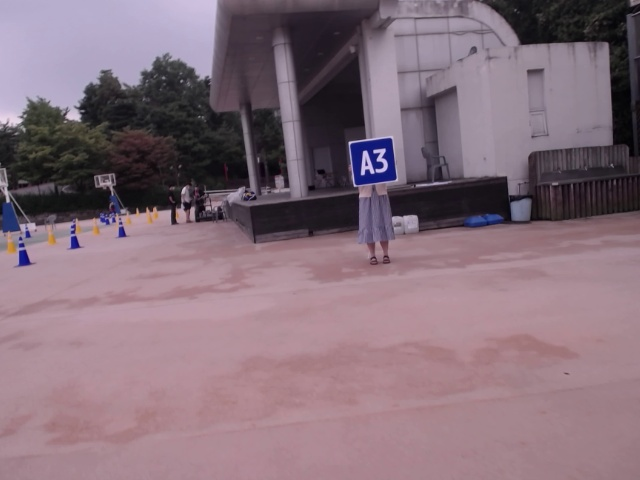delivery_a3: (348, 137, 398, 186)
